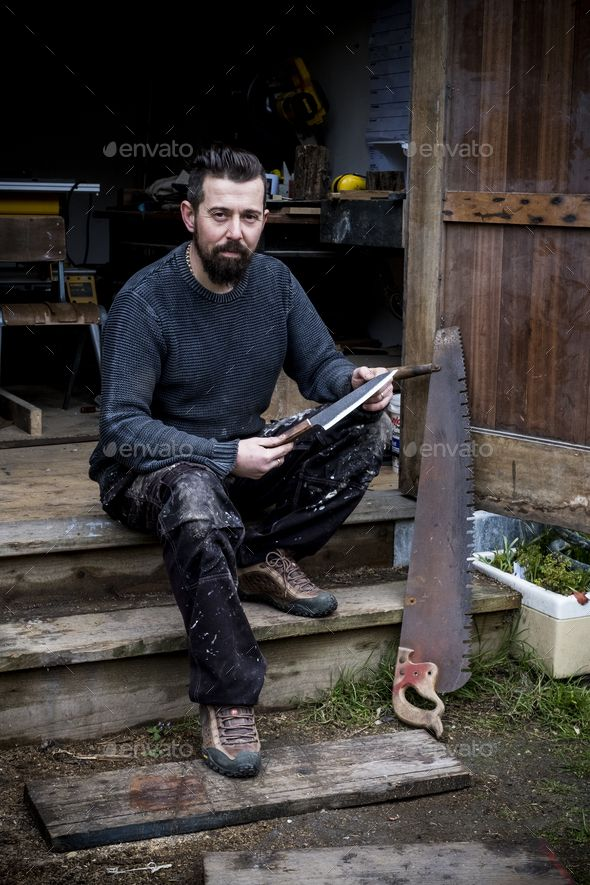knife: (259, 363, 405, 454)
person: (87, 136, 397, 778)
